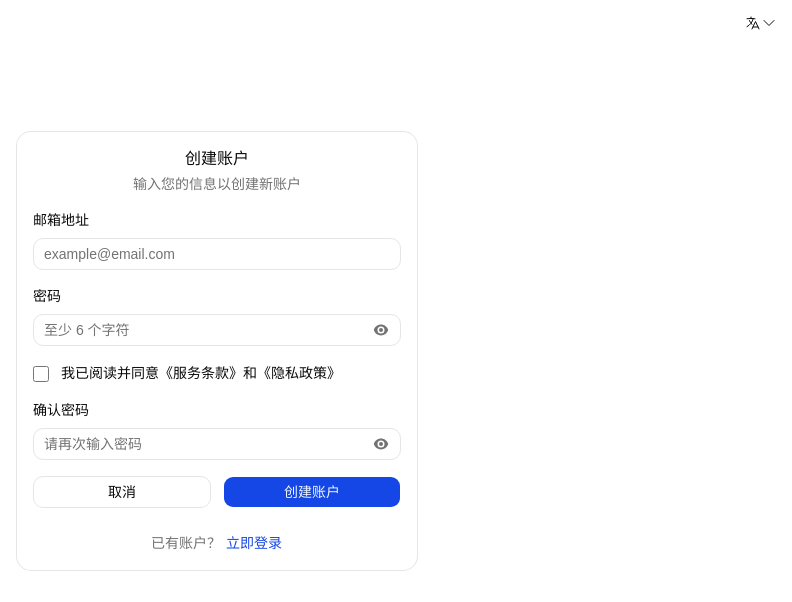
SignUpPage › 表单验证 › 应该显示密码必填错误（当密码为空时）
The width and height of the screenshot is (792, 602).
Click the password field labelled "密码": point(217, 330) left=33, top=314, right=401, bottom=346
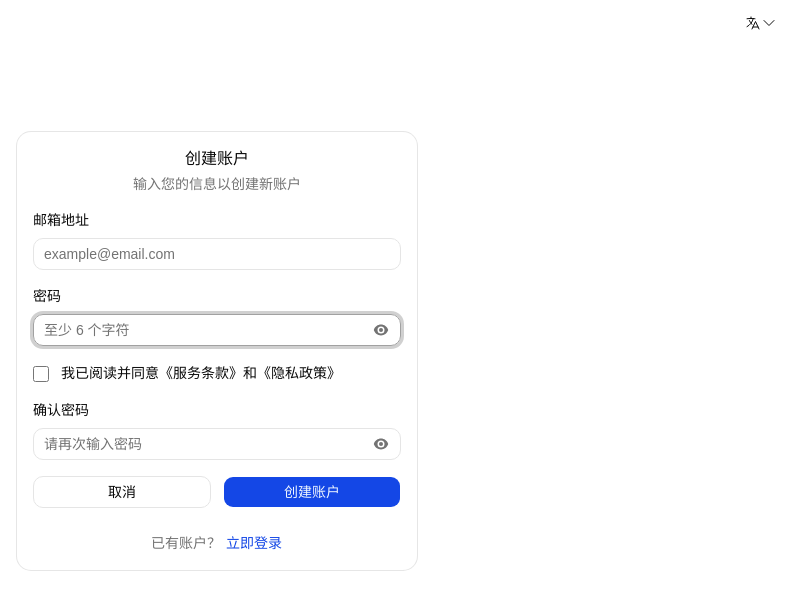
Press Tab
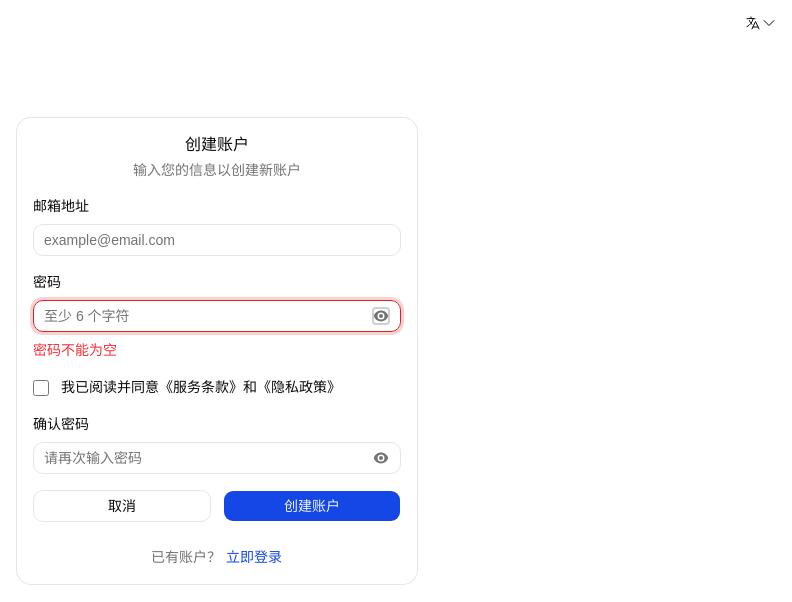
Expected: the text "密码不能为空" is shown, left=33, top=342, right=117, bottom=358
